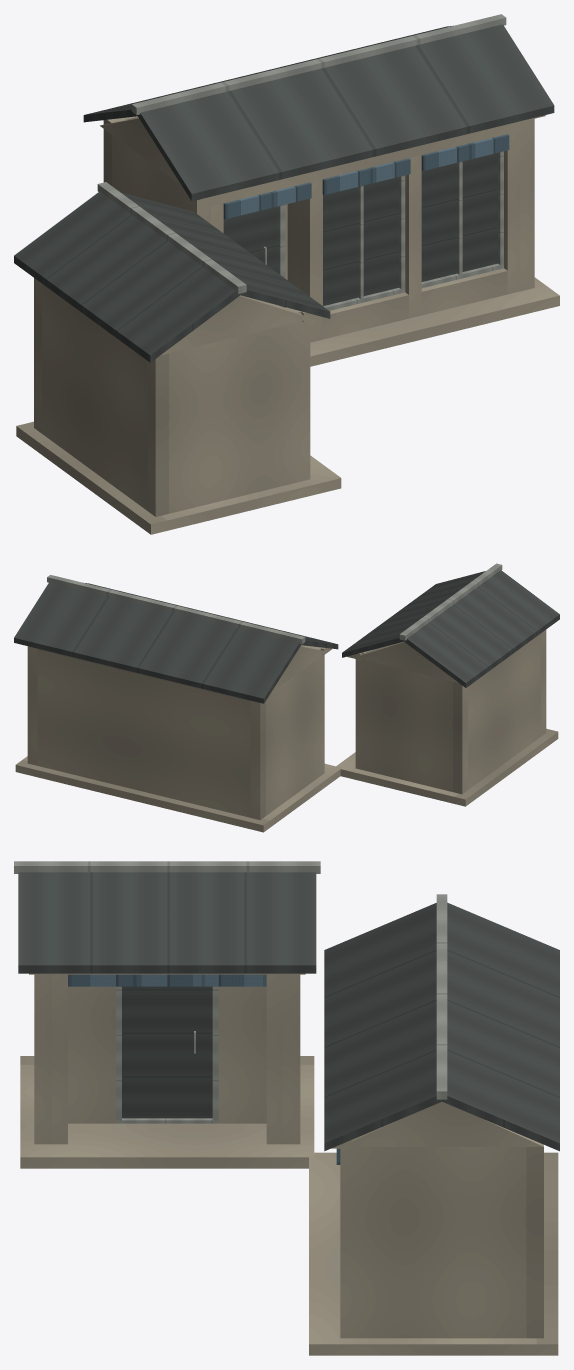
3 views of the same model, one above another, from view 1: azimuth 30°, elevation 25°; view 2: azimuth 150°, elevation 25°; view 3: azimuth 270°, elevation 25° (orthographic). The views are drawn at different scales.
Parts seen in each view (by area): view 1: madrid; view 2: madrid; view 3: madrid.
Part boxes in pixels (x1,y1,x2,y2): madrid: (14, 14, 559, 534); madrid: (14, 563, 559, 832); madrid: (14, 861, 559, 1355).
Size of the model in its own units: 7.71 by 3.29 by 6.1.
1 material, 1 textured.
